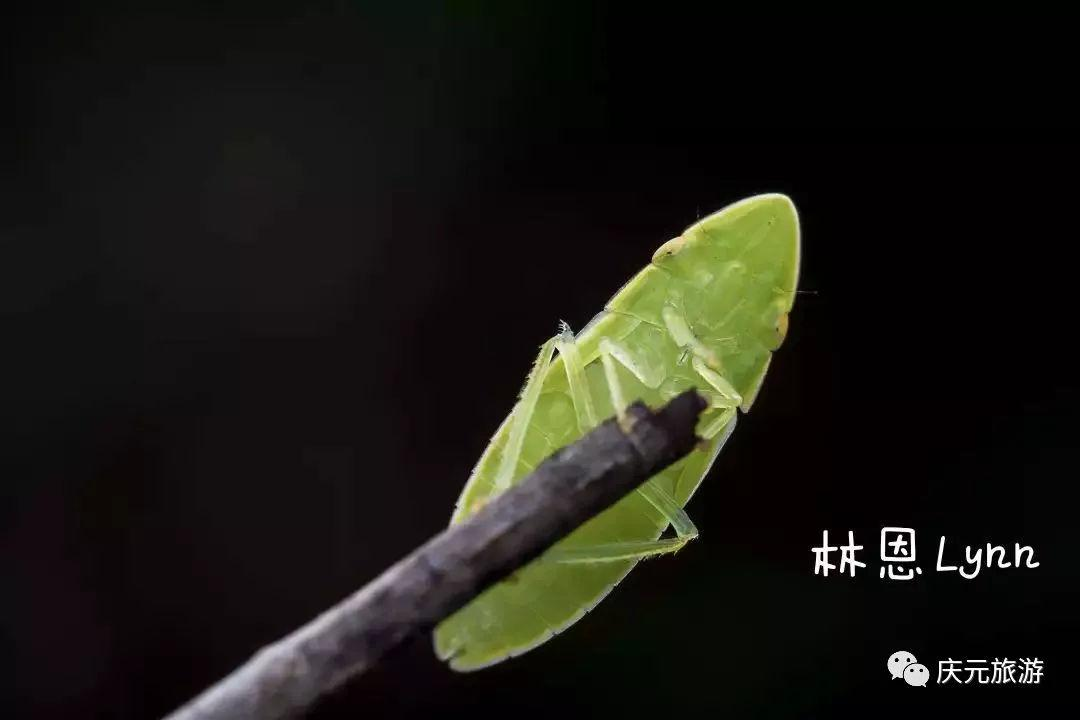Cicadellidae: (437, 192, 796, 670)
